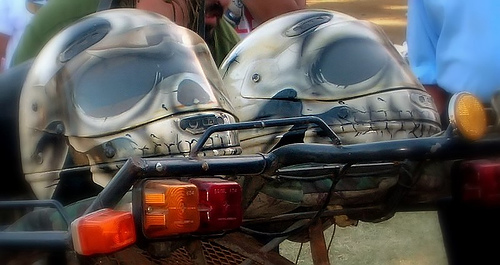helmet: (17, 26, 235, 182), (216, 9, 444, 152)
